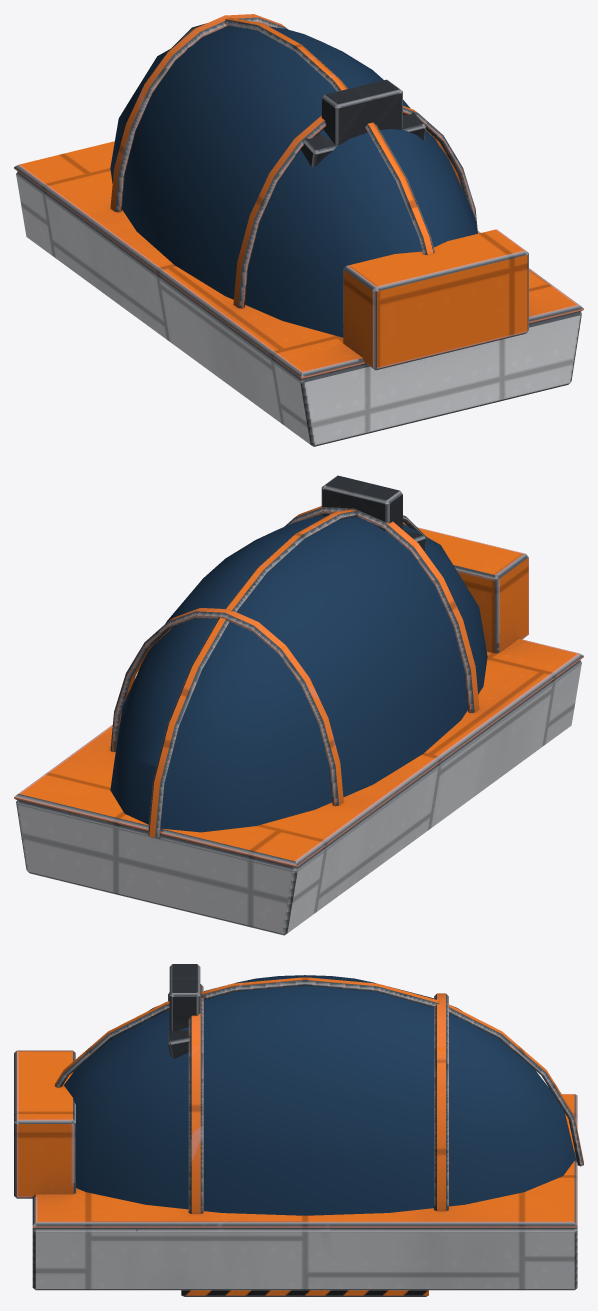
File: cabina_caza_t2.fbx
3 views of the same model, one above another, from view 1: azimuth 30°, elevation 25°; view 2: azimuth 150°, elevation 25°; view 3: azimuth 270°, elevation 25° (orthographic). The views are drawn at different scales.
Visible parts, largest first — view 1: cabina_caza_t2, cabina_caza_t2_cristal; view 2: cabina_caza_t2, cabina_caza_t2_cristal; view 3: cabina_caza_t2_cristal, cabina_caza_t2.
Boxes of the visible parts, x1=… form: cabina_caza_t2: x1=14, y1=14, x2=583, y2=446; cabina_caza_t2_cristal: x1=110, y1=26, x2=477, y2=337; cabina_caza_t2: x1=14, y1=475, x2=583, y2=935; cabina_caza_t2_cristal: x1=110, y1=515, x2=487, y2=832; cabina_caza_t2_cristal: x1=64, y1=975, x2=575, y2=1215; cabina_caza_t2: x1=14, y1=964, x2=583, y2=1296.
Size of the model in its own units: 2.5 by 2.44 by 4.6.
